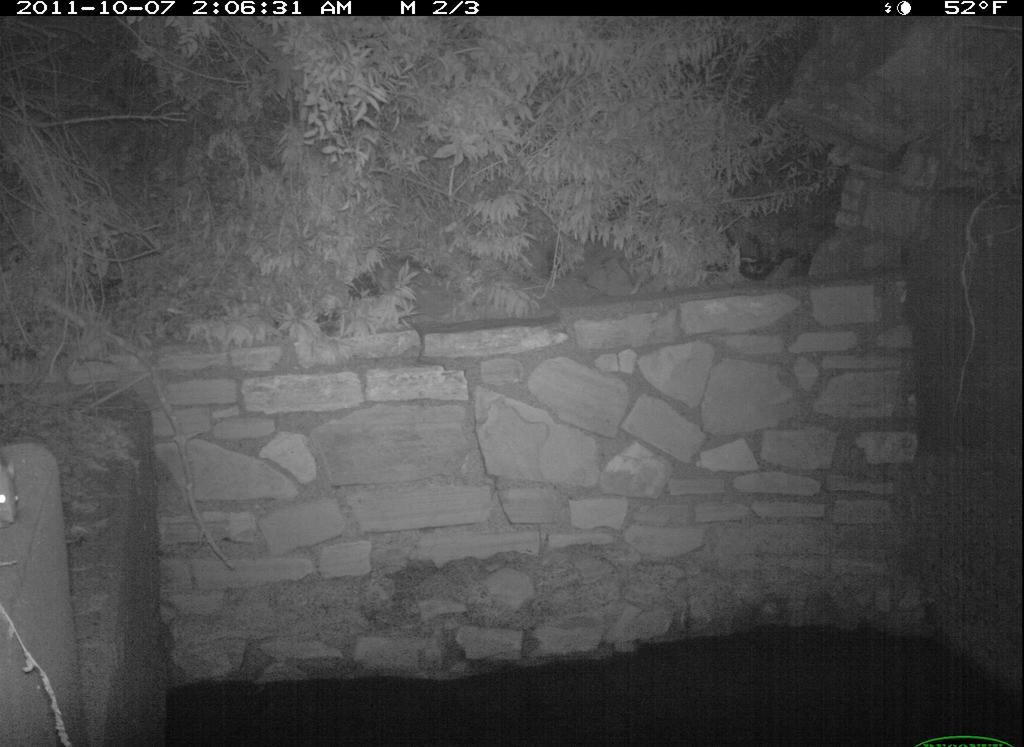rodent: (2, 457, 23, 535)
